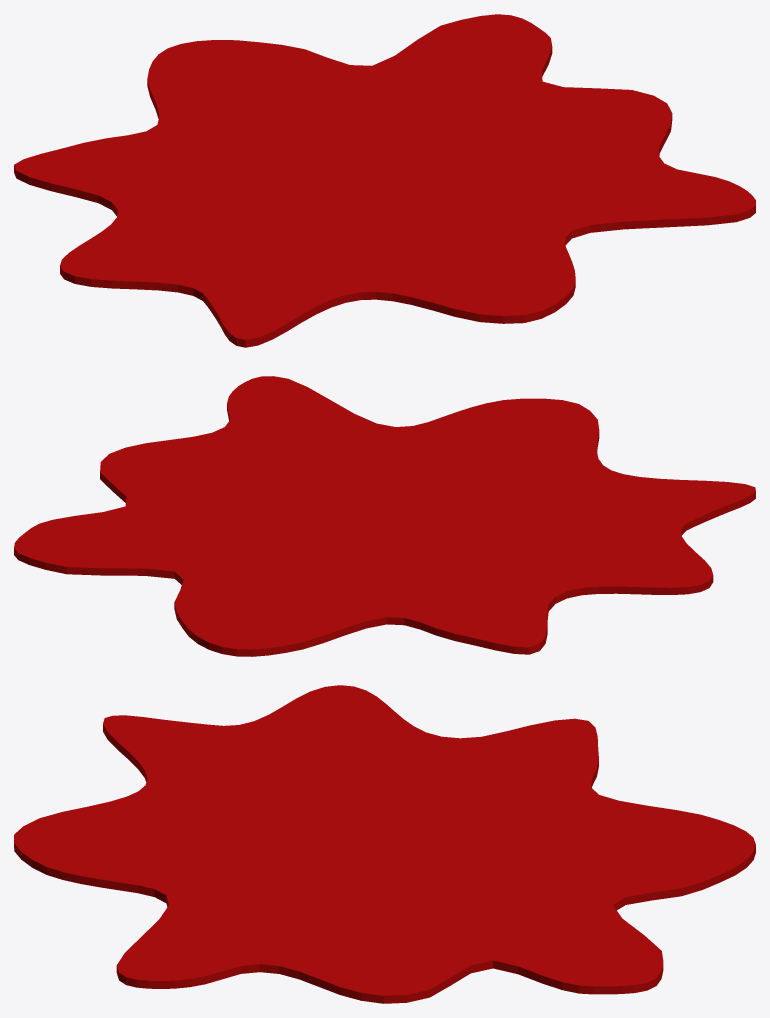
Rendered from ketchup.FBX.
3 renders of one model, top to bottom at view 1: azimuth 30°, elevation 25°; view 2: azimuth 150°, elevation 25°; view 3: azimuth 270°, elevation 25°, orthographic. The views are drawn at different scales.
Parts seen in each view (by area): view 1: Ketchup; view 2: Ketchup; view 3: Ketchup.
Boxes of the visible parts, bbox=[...] form: Ketchup: bbox=[14, 14, 755, 347]; Ketchup: bbox=[14, 376, 755, 656]; Ketchup: bbox=[14, 685, 755, 1003].
Bounding box in the file's own units: 0.00105 × 1.26e-05 × 0.00106.
